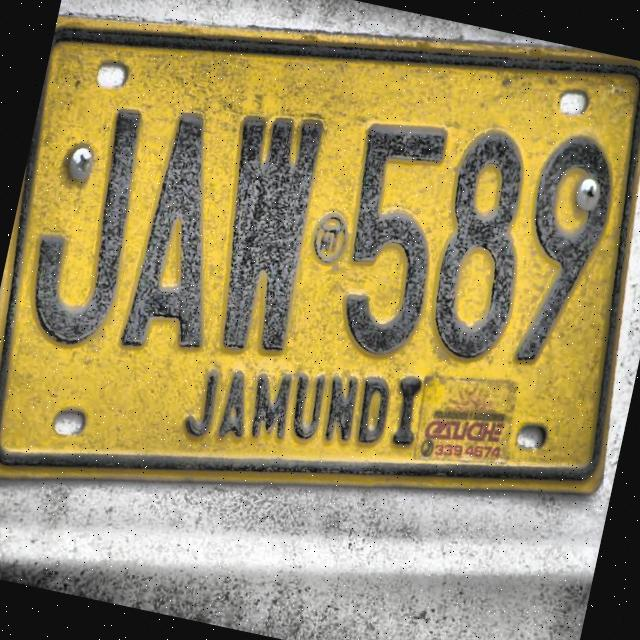5: (331, 114, 457, 357)
8: (426, 126, 534, 359)
9: (502, 132, 626, 380)
A: (112, 108, 225, 354)
J: (18, 99, 158, 350)
W: (212, 112, 334, 360)
